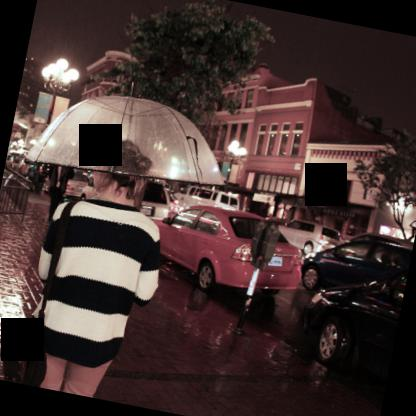handbag: (1, 197, 81, 386)
